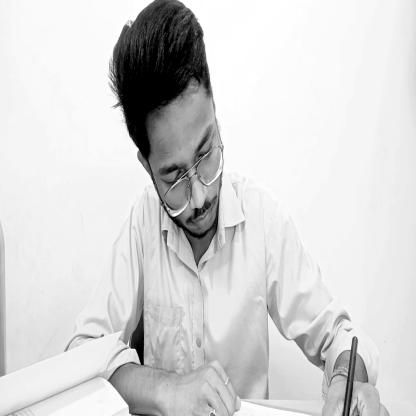Distracted: (112, 6, 224, 252)
